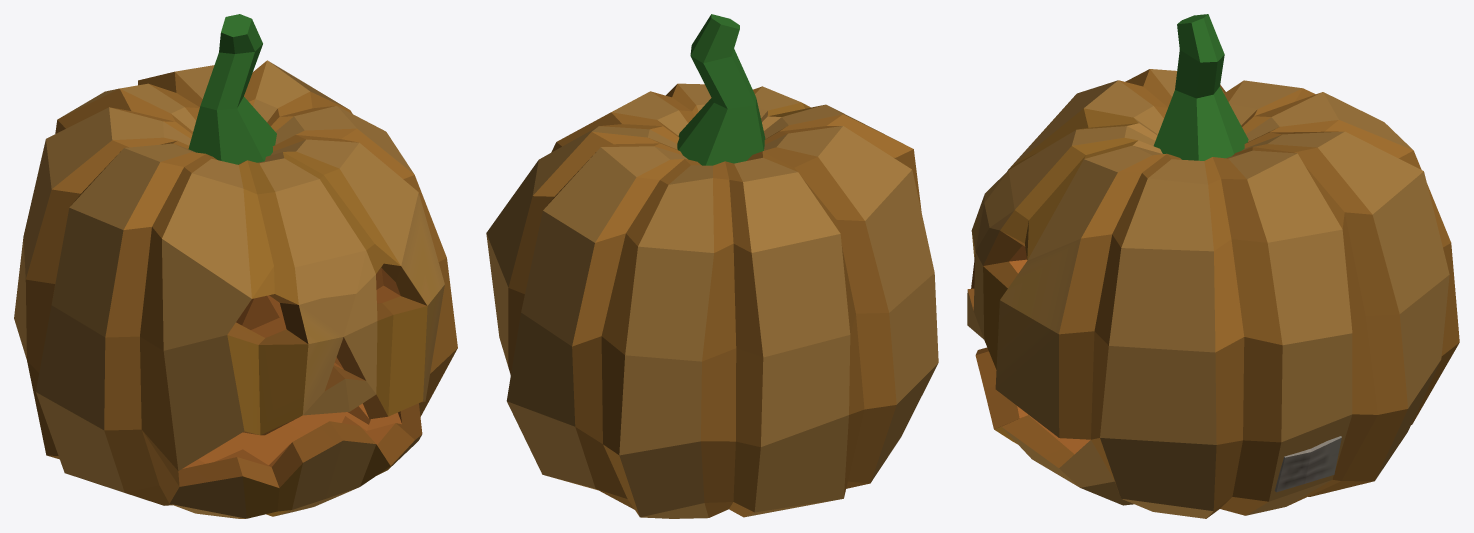
Rendered from SM_Prop_Pumpkin_Lantern_01.glb.
3 renders of one model, left to right at view 1: azimuth 30°, elevation 25°; view 2: azimuth 150°, elevation 25°; view 3: azimuth 270°, elevation 25°, orthographic.
Parts seen in each view (by area): view 1: SM_Prop_Pumpkin_Lantern_01; view 2: SM_Prop_Pumpkin_Lantern_01; view 3: SM_Prop_Pumpkin_Lantern_01.
Boxes of the visible parts, x1,y1,x2,y2 form: SM_Prop_Pumpkin_Lantern_01: (14, 14, 457, 518); SM_Prop_Pumpkin_Lantern_01: (486, 14, 938, 518); SM_Prop_Pumpkin_Lantern_01: (967, 14, 1459, 518).
Size of the model in its own units: 53.52 by 60.73 by 59.27.
Materials: 1 (1 with a texture image).
